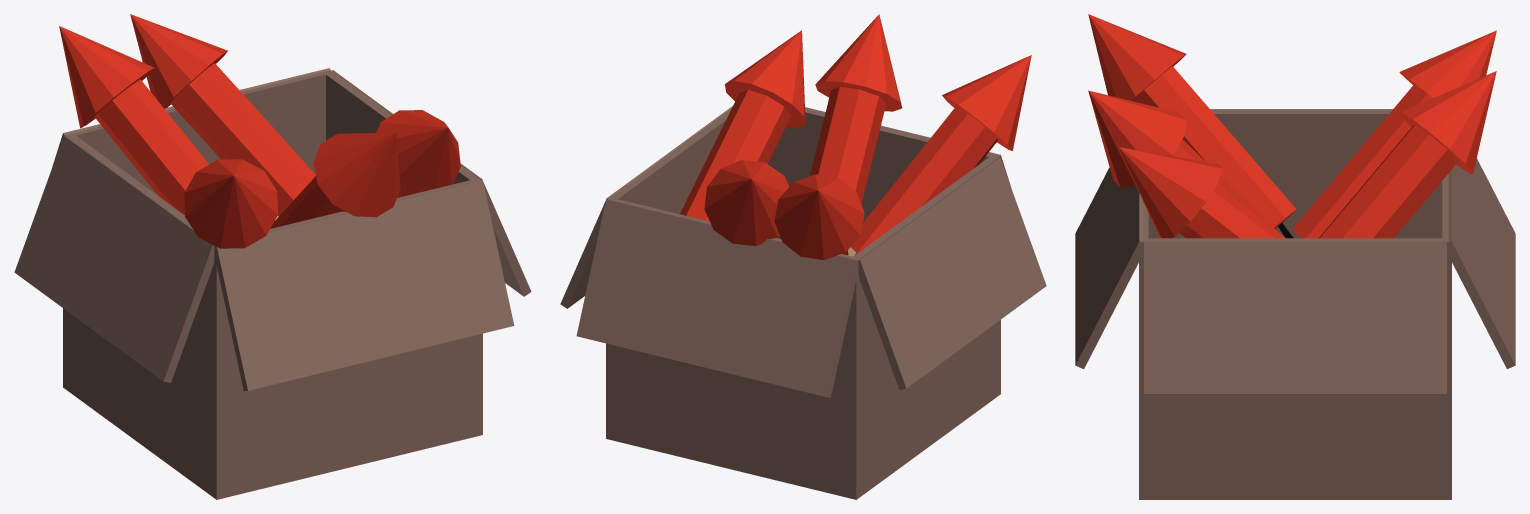
The model's file is firework box.gltf.
The picture shows the model from 3 angles, left to right: view 1: azimuth 30°, elevation 25°; view 2: azimuth 150°, elevation 25°; view 3: azimuth 270°, elevation 25°; orthographic projection. The views are drawn at different scales.
Parts seen in each view (by area): view 1: cube (×7), cone (×5), cylinder (×3); view 2: cube (×7), cone (×5), cylinder (×3); view 3: cube (×7), cone (×5), cylinder (×5).
Boxes of the visible parts, x1,y1,x2,y2 form: cube (×7): [14, 70, 531, 499]; cone (×5): [59, 14, 460, 248]; cylinder (×3): [95, 63, 345, 228]; cube (×7): [560, 106, 1046, 499]; cone (×5): [704, 14, 1031, 260]; cylinder (×3): [680, 87, 997, 253]; cube (×7): [1075, 110, 1515, 499]; cone (×5): [1088, 14, 1496, 238]; cylinder (×5): [1132, 66, 1458, 238].
Bounding box in the file's own units: 0.7126 × 0.644 × 0.7258.
Materials: 6 (6 with a texture image).
